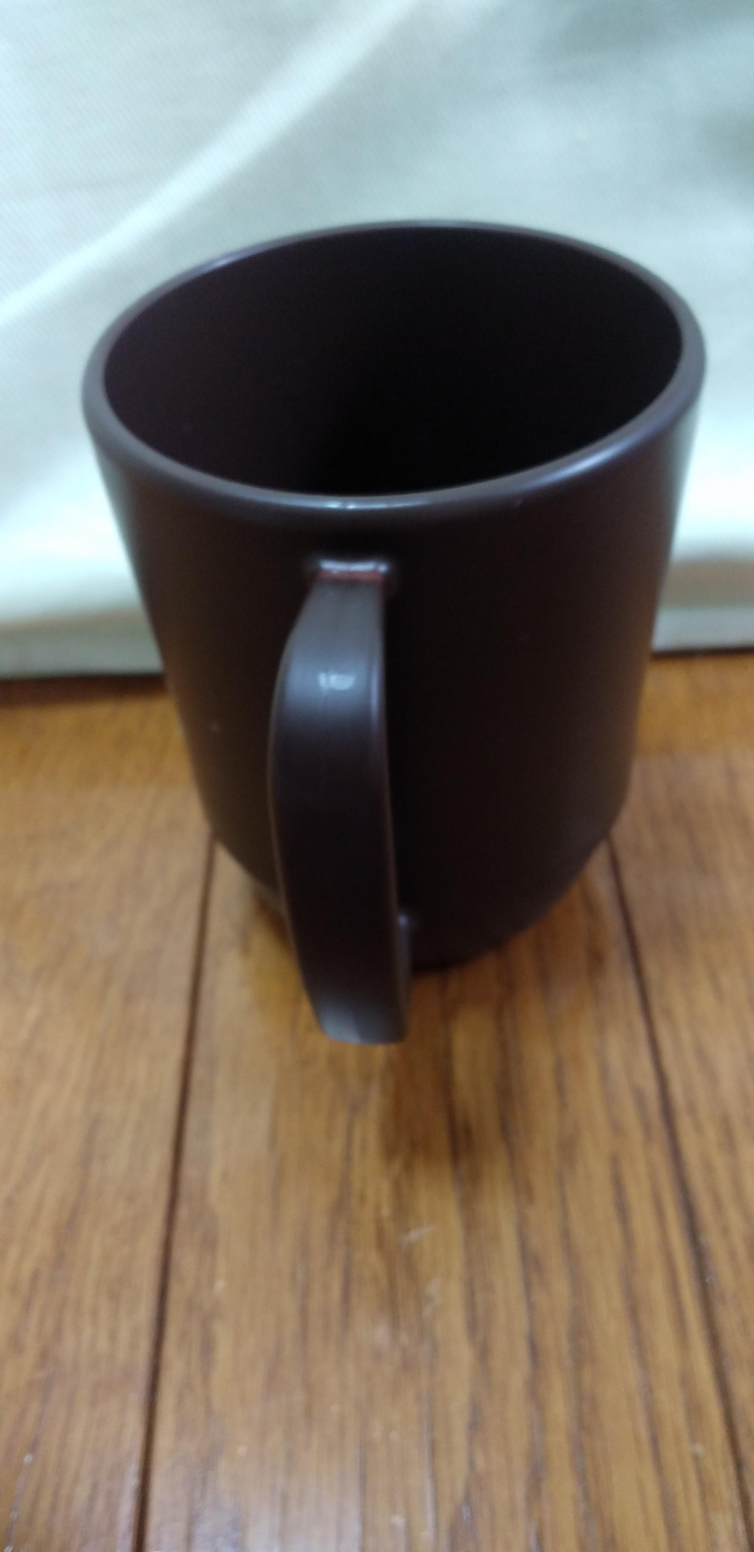mug-real100-3d100: (83, 222, 704, 1045)
